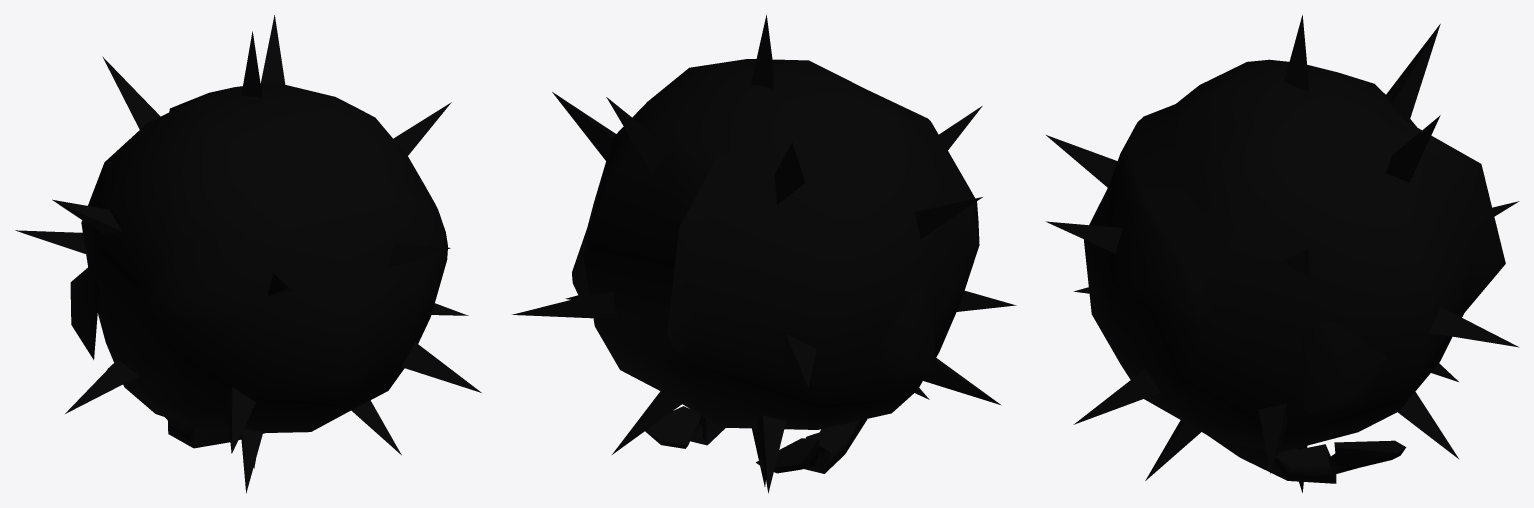
Rendered from cannon_puffer.obj.
3 views of the same model, side by side, from view 1: azimuth 30°, elevation 25°; view 2: azimuth 150°, elevation 25°; view 3: azimuth 270°, elevation 25° (orthographic). The views are drawn at different scales.
Parts seen in each view (by area): view 1: Dummy005; view 2: Dummy005; view 3: Dummy005.
Boxes of the visible parts, x1,y1,x2,y2 form: Dummy005: [15, 15, 481, 493]; Dummy005: [512, 15, 1016, 493]; Dummy005: [1045, 15, 1519, 492].
Size of the model in its own units: 1.12 by 1.16 by 1.04.
Materials: 1 (1 with a texture image).
